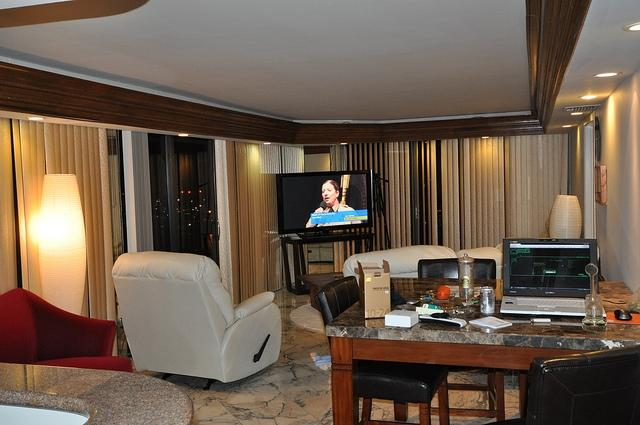orange: (437, 288, 449, 300), (436, 286, 451, 294)
